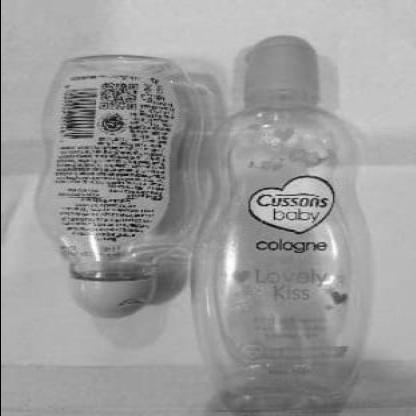objects: (186, 36, 378, 416), (38, 55, 200, 320)
